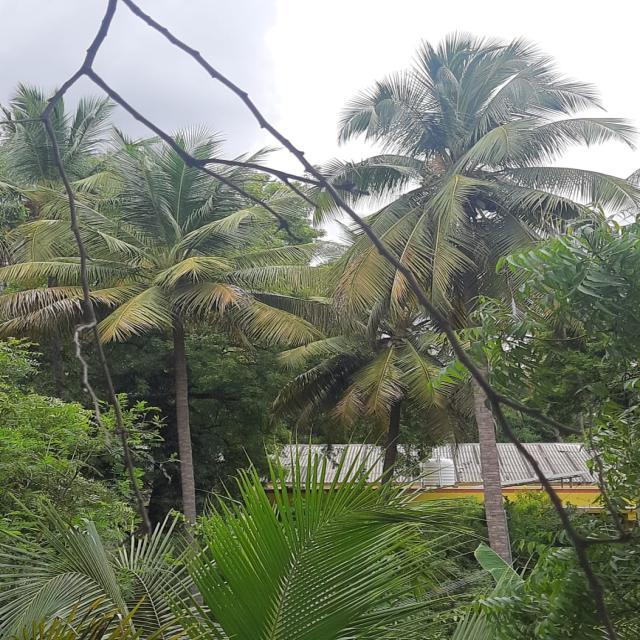Coconut-tree: (346, 53, 589, 555), (72, 150, 279, 554)
